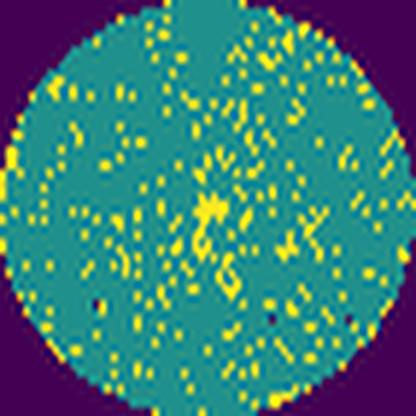Center: (191, 183, 227, 260)
